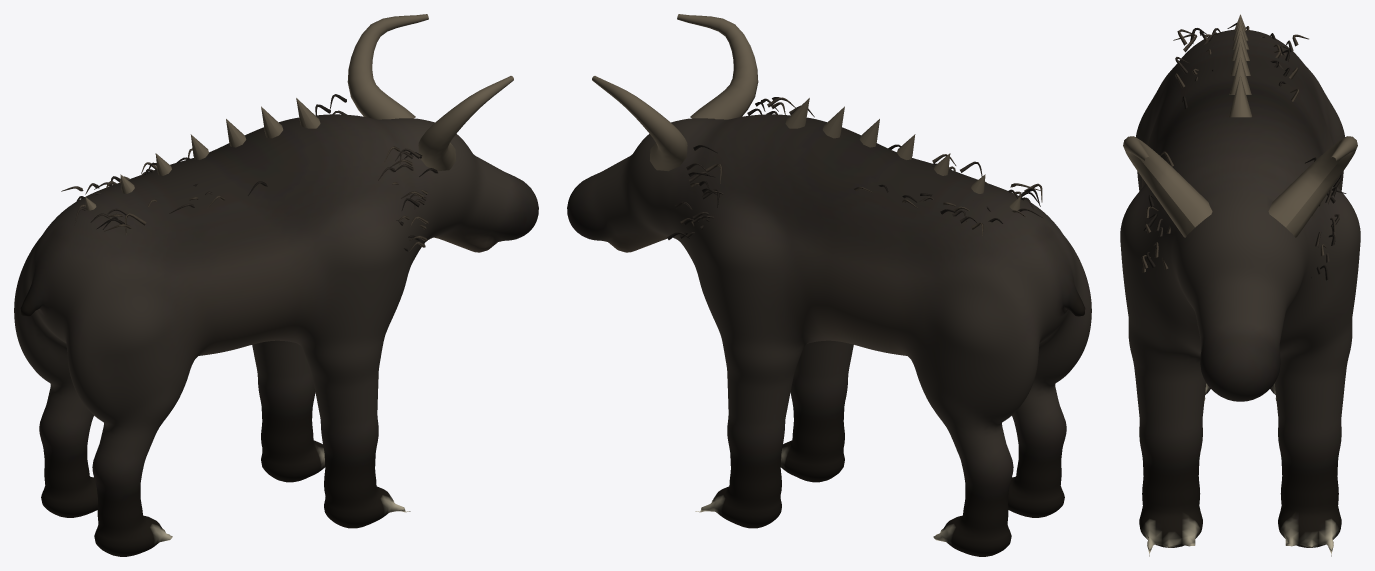
The model's file is behemoth.glb.
The picture shows the model from 3 angles, left to right: view 1: azimuth 30°, elevation 25°; view 2: azimuth 150°, elevation 25°; view 3: azimuth 270°, elevation 25°; orthographic projection. The views are drawn at different scales.
Bounding box in the file's own units: 2.45 × 1.92 × 0.9019.
